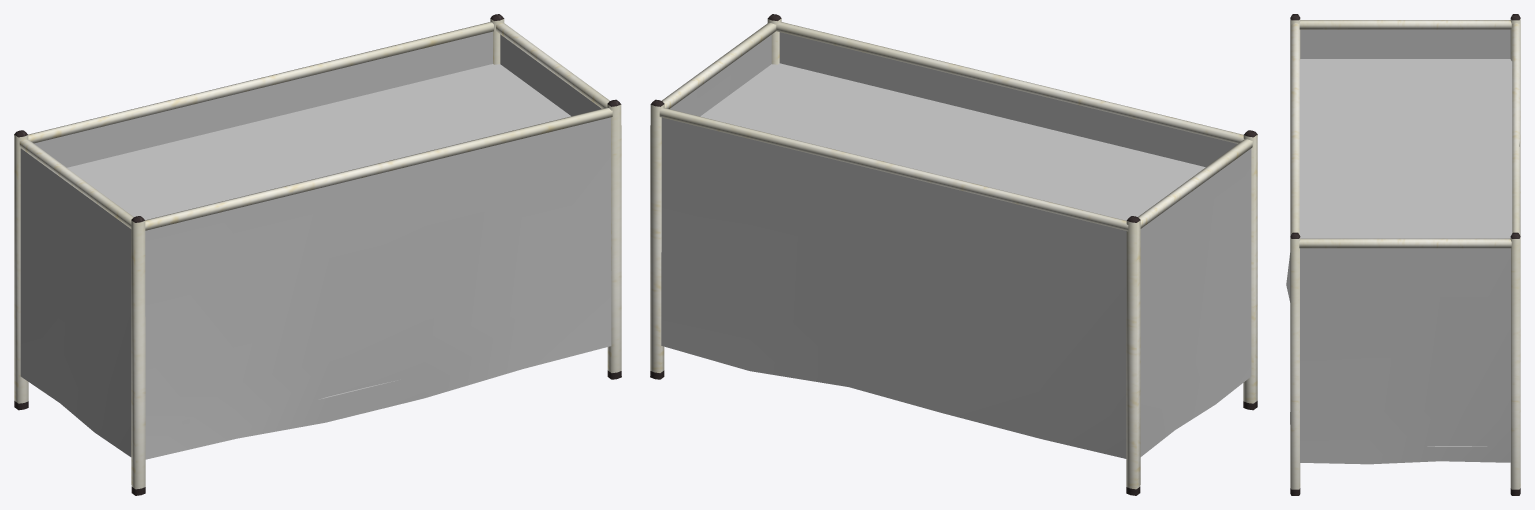
Rendered from sale_shelf01a.fbx.
3 views of the same model, side by side, from view 1: azimuth 30°, elevation 25°; view 2: azimuth 150°, elevation 25°; view 3: azimuth 270°, elevation 25° (orthographic). The views are drawn at different scales.
Visible parts, largest first — view 1: sale_shelf01a; view 2: sale_shelf01a; view 3: sale_shelf01a.
Part boxes in pixels (<box>): sale_shelf01a: <box>14,14,621,495</box>; sale_shelf01a: <box>650,14,1257,495</box>; sale_shelf01a: <box>1286,14,1520,495</box>.
Bounding box in the file's own units: 153 × 82.56 × 67.67.
